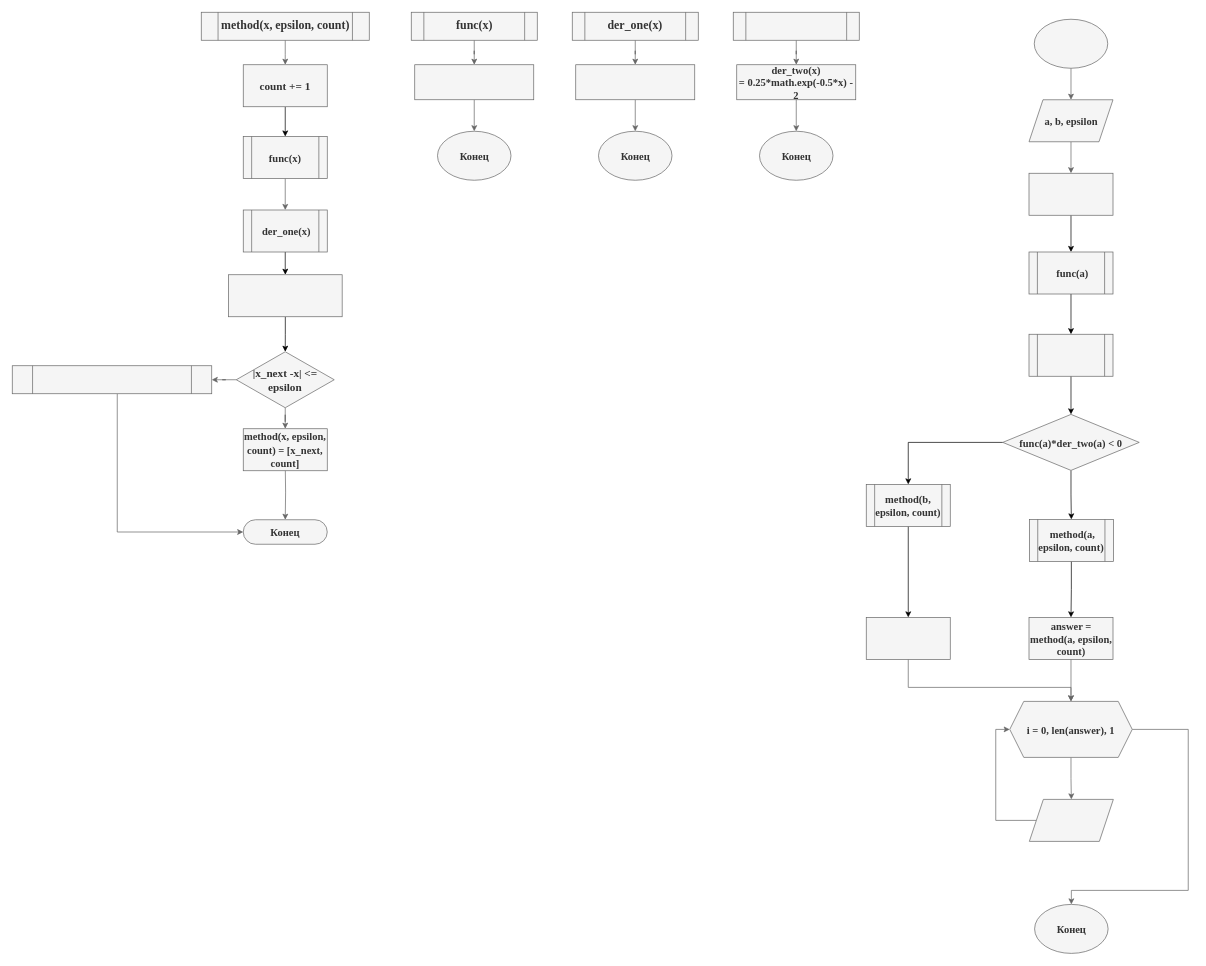
Some shapes in this 1206 by 966 pixel diagram are drawn without their labels. The centre of each missing label's shape, as x and y in pixels:
answer = method(b, epsilon, count): the point at 908,638
answer[i]: the point at 1071,820
count = 0: the point at 1070,194
der_one(x) = -0.5*exp(-0.5*x) - 2*x + 1.6: the point at 635,82
der_two (x): the point at 796,26
der_two(a): the point at 1070,355
func(x) = exp(-0.5*x) - (x - 0.8)^2 + 0.1: the point at 474,82
method(x_next, epsilon, count): the point at 112,379
x_next = x - func(x)/der_one(x): the point at 285,295
Начало: the point at 1071,43
